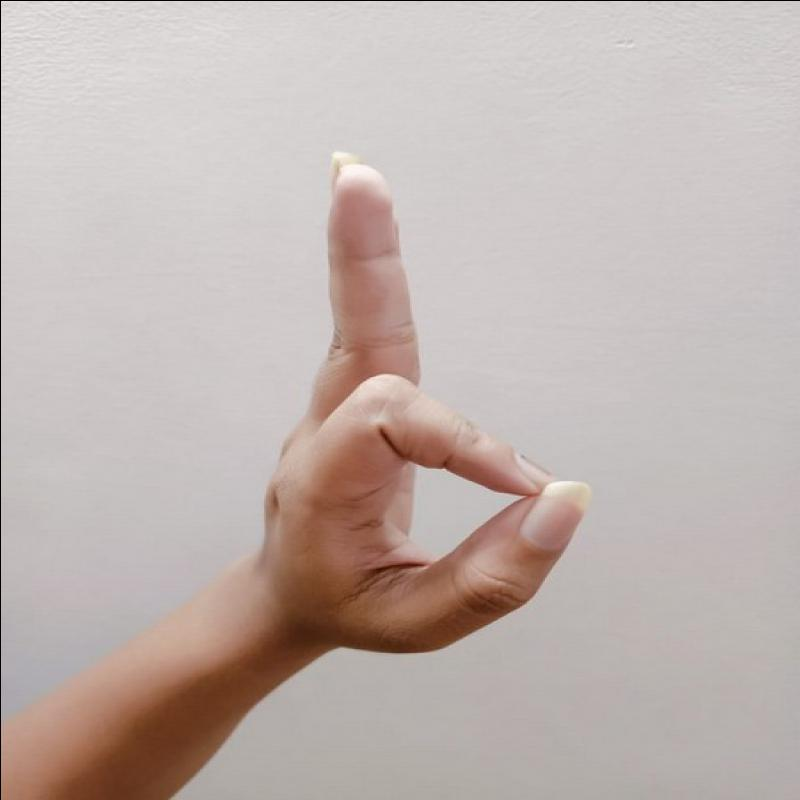Mudraakhyam: (245, 141, 619, 686)
